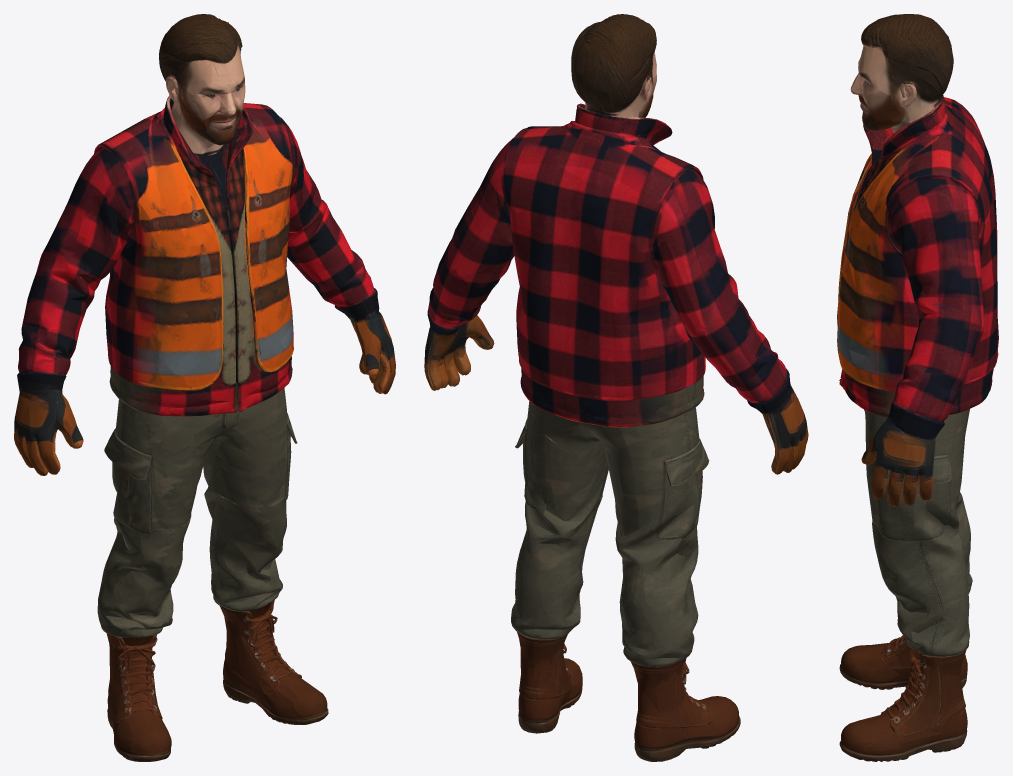
Rendered from hunter-flannel-blaze-camo.glb.
3 views of the same model, side by side, from view 1: azimuth 30°, elevation 25°; view 2: azimuth 150°, elevation 25°; view 3: azimuth 270°, elevation 25° (orthographic).
Size of the model in its own units: 1.04 by 1.9 by 0.3994.
1 material, 1 textured.
